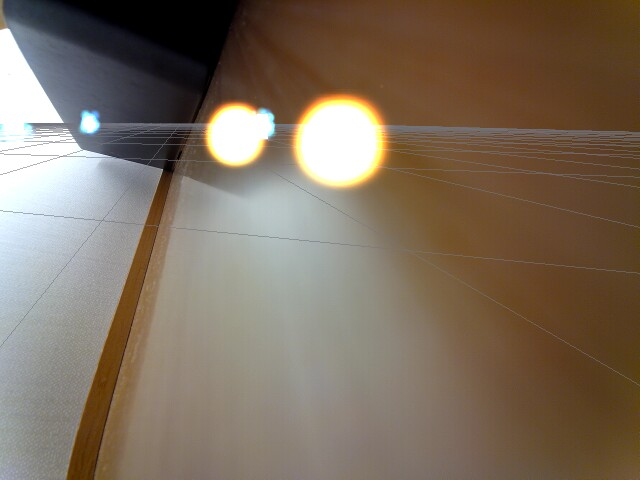firebig: (289, 96, 396, 193)
